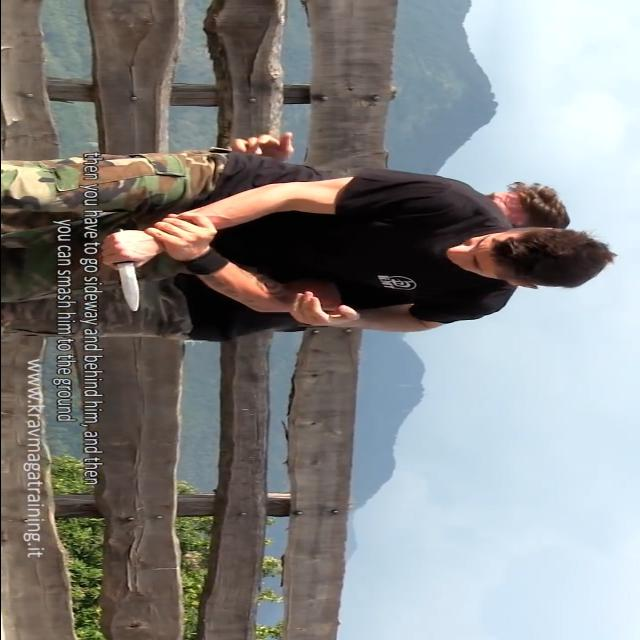knife: (94, 227, 156, 319)
